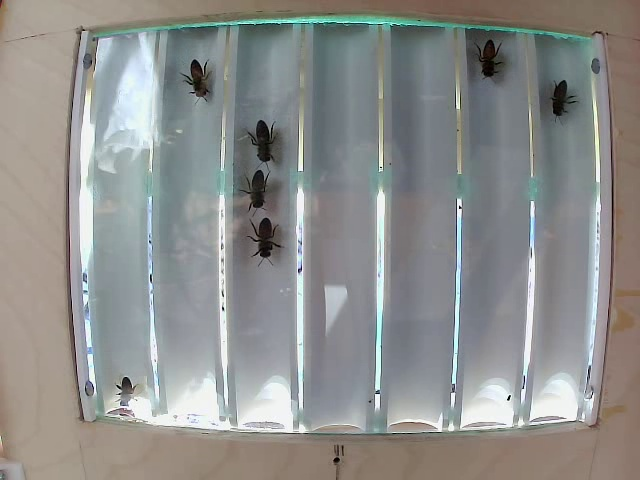bee: (176, 56, 216, 121), (542, 69, 584, 130), (254, 213, 294, 277), (245, 167, 277, 216), (249, 111, 282, 158), (473, 39, 501, 84)
